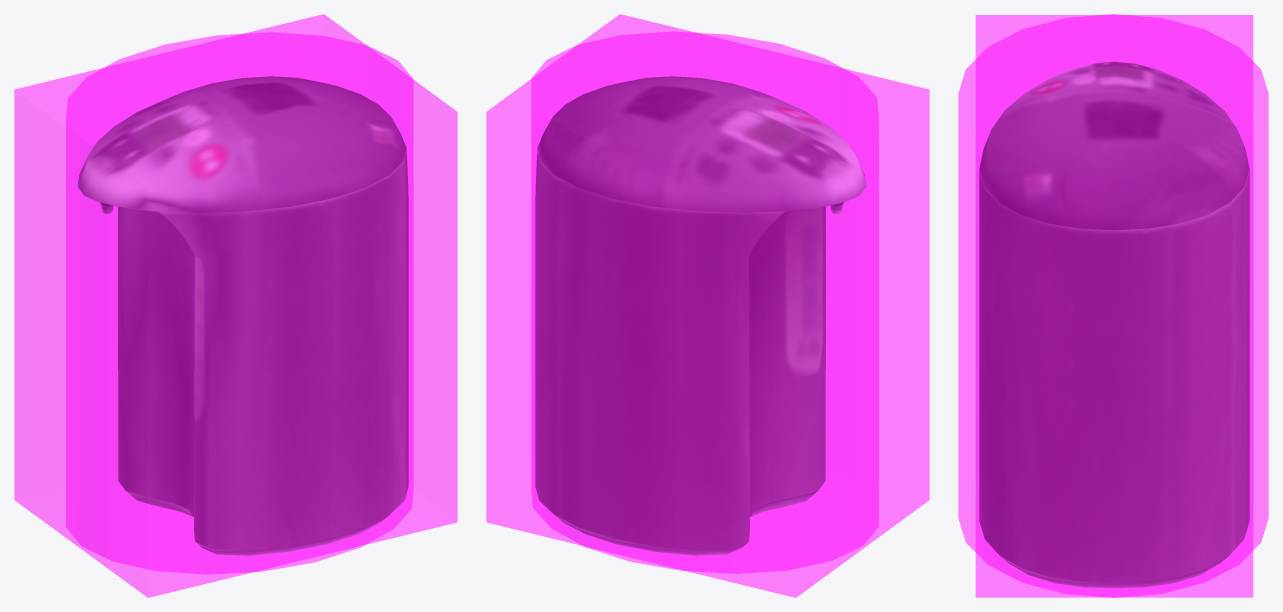
The model's file is pot.fbx.
3 views of the same model, side by side, from view 1: azimuth 30°, elevation 25°; view 2: azimuth 150°, elevation 25°; view 3: azimuth 270°, elevation 25° (orthographic). The views are drawn at different scales.
Visible parts, largest first — view 1: pot_boundingBox, pot_boundingBox2, pot; view 2: pot_boundingBox, pot_boundingBox2, pot; view 3: pot_boundingBox2, pot_boundingBox, pot.
Boxes of the visible parts, x1,y1,x2,y2 form: pot_boundingBox: (14, 14, 457, 597); pot_boundingBox2: (66, 32, 413, 574); pot: (77, 76, 408, 555); pot_boundingBox: (486, 14, 929, 597); pot_boundingBox2: (531, 31, 878, 573); pot: (535, 76, 866, 555); pot_boundingBox2: (958, 14, 1268, 597); pot_boundingBox: (975, 15, 1253, 597); pot: (979, 61, 1249, 588).
Bounding box in the file's own units: 26.7 × 33.12 × 21.85.
